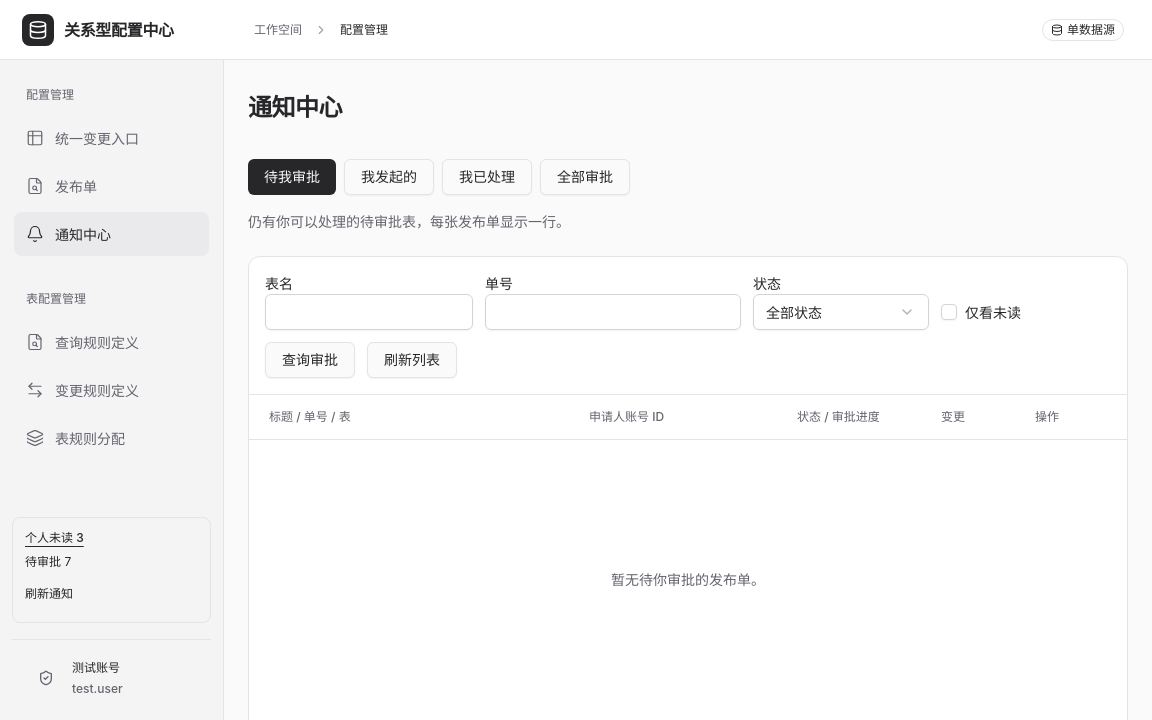
Test: 个人未读入口展示真实未读与独立待审批数，筛选失败仍保留计数
Check: the text named "个人待审批数" reads "待审批 7", box 25,554 -> 71,569
Click the link "个人未读 3".
click(54, 538)  # box 25,530 -> 84,545
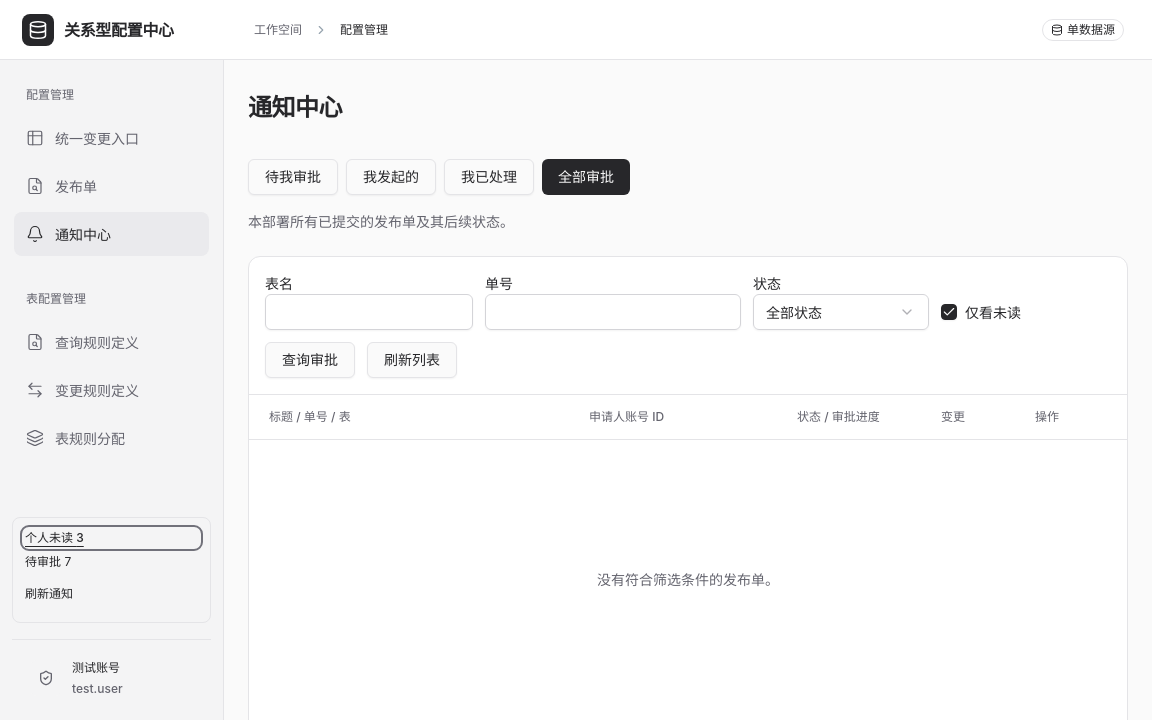
Check: the checkbox named "仅看未读" is checked, box 941,304 -> 957,320
Click the button "刷新通知".
click(49, 594)  # box 25,578 -> 73,610
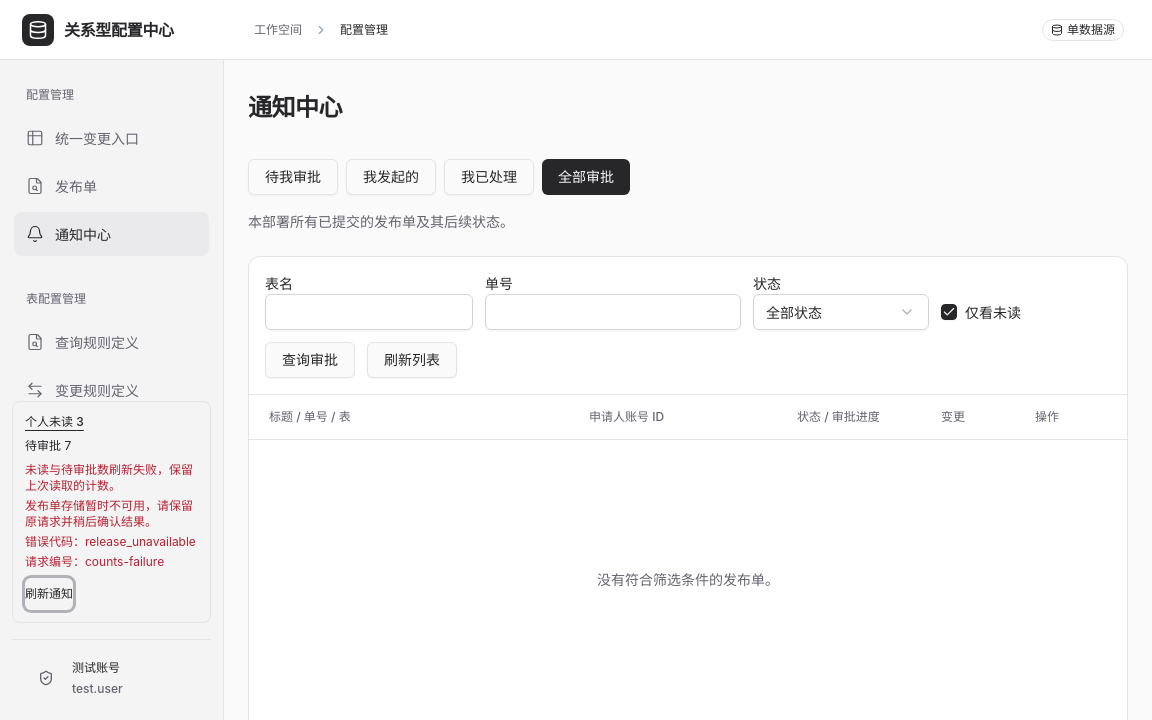
Check: the link "个人未读 3" is shown, box 25,414 -> 84,429
Check: the text "未读与待审批数刷新失败，保留上次读取的计数。" is shown, box 25,462 -> 198,494
